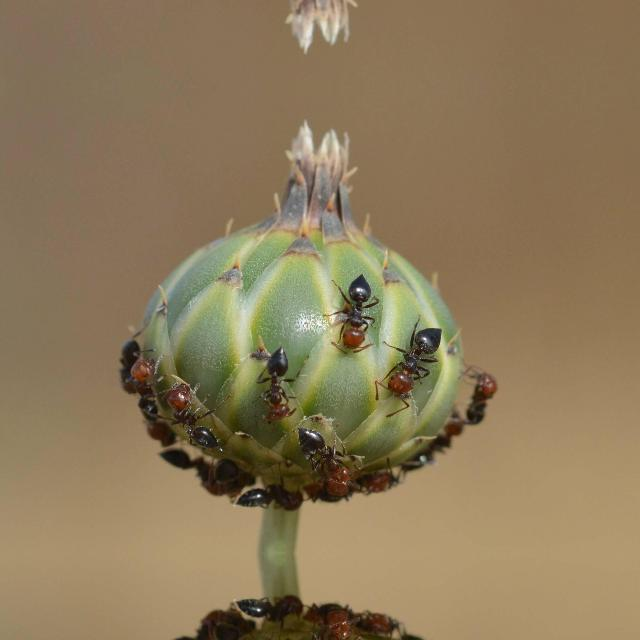Crematogaster: (378, 318, 442, 408), (152, 435, 235, 489), (162, 381, 226, 451), (328, 268, 380, 352), (402, 407, 464, 473), (254, 342, 296, 428), (241, 586, 311, 632), (241, 474, 311, 518), (298, 423, 347, 483), (118, 398, 178, 446), (130, 349, 166, 415), (460, 372, 500, 426), (152, 616, 235, 640), (115, 337, 144, 393), (297, 622, 346, 640)
